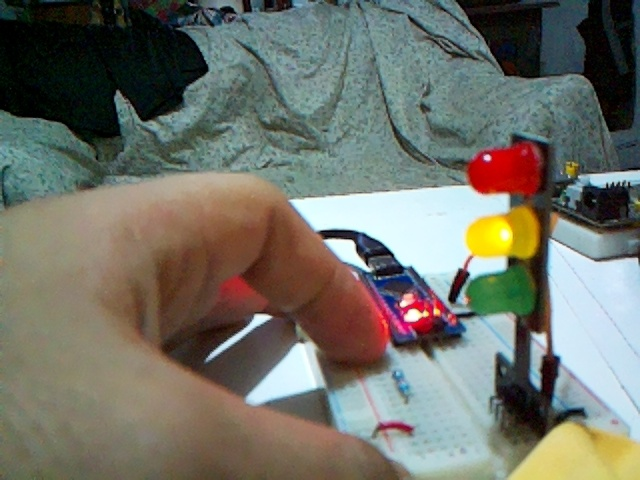traffic_light_yellow: (464, 134, 564, 425)
